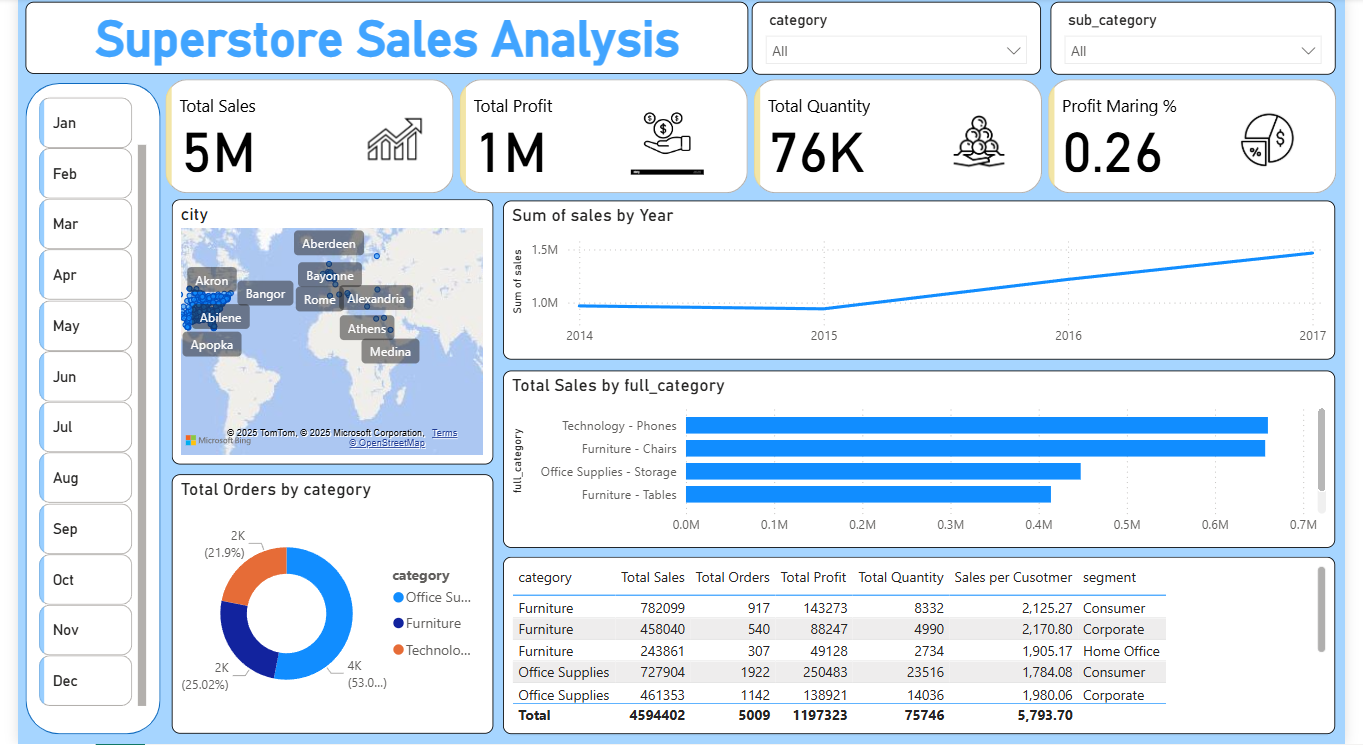

Layout of this report page (visuals, bound fields, positions):
{"tool":"powerbi","page":{"name":"Dashboard","canvas":[1280,720],"ordinal":0},"visuals":[{"type":"shape","box":[7.2,82,130.3,628.6],"z":0},{"type":"advancedSlicerVisual","fields":{"Values":["Date Table.Month Name"]},"box":[15.7,90.5,113.4,603.2],"z":1000},{"type":"cardVisual","fields":{"Data":["db_store superstore_sales.Total Sales","db_store superstore_sales.Total Profit","db_store superstore_sales.Total Quantity","db_store superstore_sales.Profit Maring %"]},"box":[137.5,73.6,1142.5,120.6],"z":2000},{"type":"image","box":[332.1,100,64.2,71.6],"z":3000},{"type":"image","box":[892.6,107.4,70.4,61.7],"z":4000},{"type":"image","box":[1169.1,102.5,74.1,69.1],"z":5000},{"type":"image","box":[575.3,90.1,102.5,85.2],"z":6000},{"type":"slicer","fields":{"Values":["db_store superstore_sales.category"]},"box":[708.6,3.7,279,70.4],"z":7000},{"type":"slicer","fields":{"Values":["db_store superstore_sales.sub_category"]},"box":[996.3,3.7,275.3,70.4],"z":8000},{"type":"map","fields":{"Category":["db_store superstore_sales.city"]},"box":[148.8,193.8,310,256.2],"z":9000},{"type":"lineChart","fields":{"Y":["db_store superstore_sales.Total Quantity"],"Category":["Date Table.Date"],"Series":["Date Table.Month Name"]},"box":[468.1,194.2,803.5,153.2],"z":10000},{"type":"donutChart","fields":{"Y":["db_store superstore_sales.Total Orders"],"Category":["db_store superstore_sales.category"]},"box":[148.8,460,310,250],"z":11000},{"type":"clusteredBarChart","fields":{"Y":["db_store superstore_sales.Total Sales"],"Category":["db_store superstore_sales.full_category"]},"box":[468.1,359.5,803.5,171.3],"z":12000},{"type":"tableEx","fields":{"Values":["db_store superstore_sales.category","db_store superstore_sales.Total Sales","db_store superstore_sales.Total Orders","db_store superstore_sales.Total Profit","db_store superstore_sales.Total Quantity","db_store superstore_sales.Sales per Cusotmer","db_store superstore_sales.segment"]},"box":[468.1,539.3,803.5,171.3],"z":13000},{"type":"textbox","title":"Superstore Sales Analysis ","box":[7.2,3.6,697.3,70],"z":14000}]}

Visuals, with their boxes in screenshot pixels (x1, y1, x2, y2), scaled from the page's 1280x720 canvas onto the 1363x745 screenshot:
shape: box=[8, 85, 146, 735]
advancedSlicerVisual - Date Table.Month Name: box=[17, 94, 137, 718]
cardVisual - db_store superstore_sales.Total Sales x db_store superstore_sales.Total Profit: box=[146, 76, 1362, 201]
image: box=[354, 103, 422, 178]
image: box=[950, 111, 1025, 175]
image: box=[1245, 106, 1324, 178]
image: box=[613, 93, 722, 181]
slicer - db_store superstore_sales.category: box=[755, 4, 1052, 77]
slicer - db_store superstore_sales.sub_category: box=[1061, 4, 1354, 77]
map - db_store superstore_sales.city: box=[158, 201, 489, 466]
lineChart - db_store superstore_sales.Total Quantity x Date Table.Date: box=[498, 201, 1354, 359]
donutChart - db_store superstore_sales.Total Orders x db_store superstore_sales.category: box=[158, 476, 489, 735]
clusteredBarChart - db_store superstore_sales.Total Sales x db_store superstore_sales.full_category: box=[498, 372, 1354, 549]
tableEx - db_store superstore_sales.category x db_store superstore_sales.Total Sales: box=[498, 558, 1354, 735]
"Superstore Sales Analysis " textbox: box=[8, 4, 750, 76]
